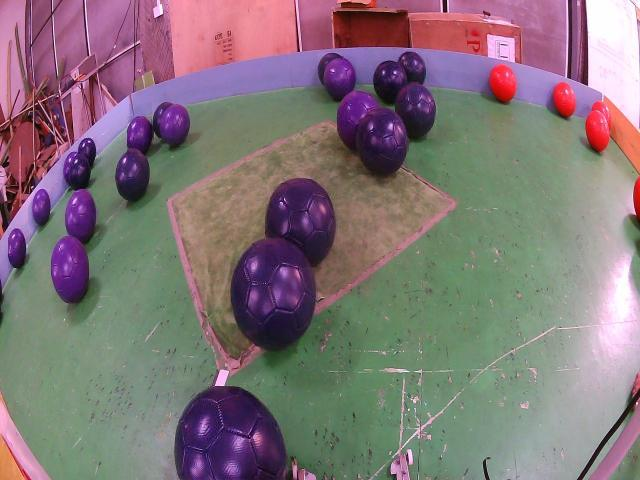jambhalya: (51, 235, 89, 303), (337, 90, 379, 150), (66, 189, 97, 243), (324, 56, 356, 99), (160, 105, 190, 146), (127, 117, 153, 154), (8, 229, 27, 268), (33, 188, 50, 225), (62, 152, 78, 184)
kaalyya: (175, 386, 287, 479), (231, 236, 317, 349), (266, 178, 337, 267), (357, 108, 408, 175), (396, 84, 437, 138), (115, 150, 150, 200), (373, 60, 407, 103), (398, 52, 427, 83), (69, 154, 91, 190), (318, 52, 342, 83), (153, 102, 172, 138), (78, 138, 97, 167)
